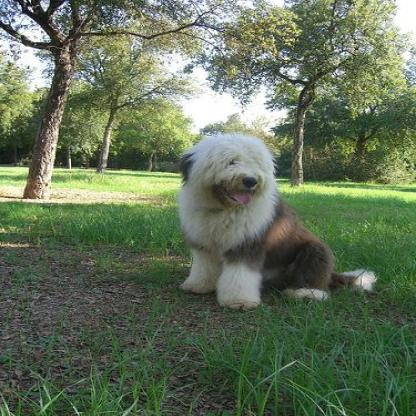Old_English_sheepdog: (173, 131, 373, 307)
